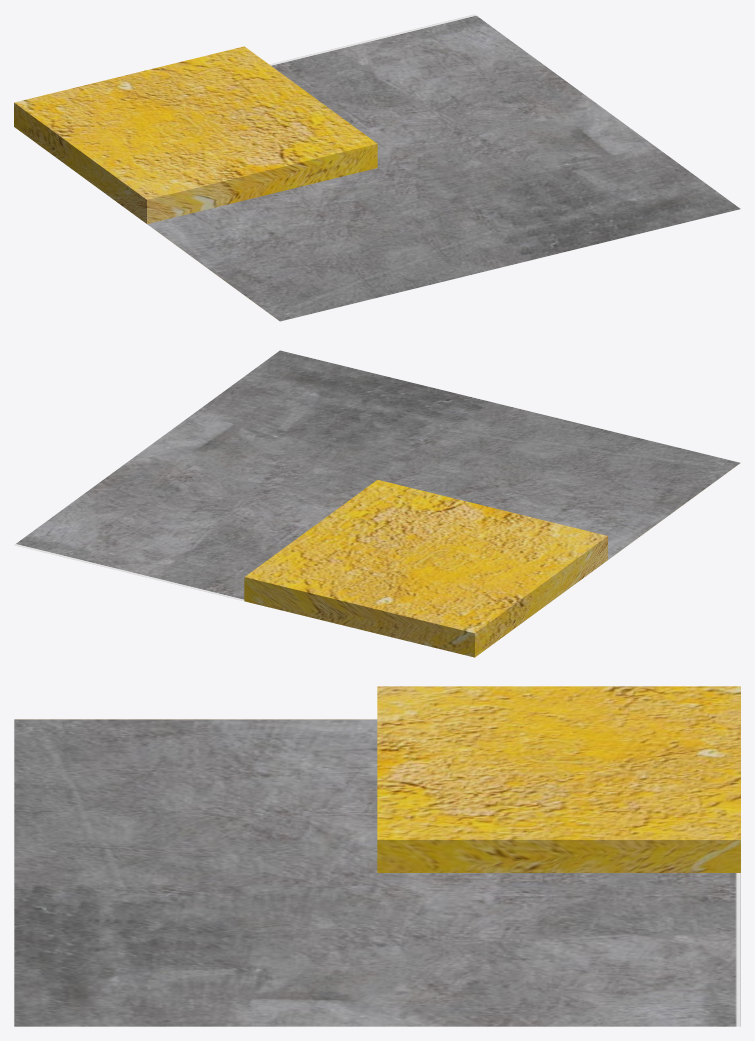
The model's file is Piso_025.fbx.
3 views of the same model, one above another, from view 1: azimuth 30°, elevation 25°; view 2: azimuth 150°, elevation 25°; view 3: azimuth 270°, elevation 25° (orthographic). The views are drawn at different scales.
Visible parts, largest first — view 1: Plane.012; view 2: Plane.012; view 3: Plane.012.
Part boxes in pixels (<box>): Plane.012: <box>14,14,740,321</box>; Plane.012: <box>14,350,740,657</box>; Plane.012: <box>14,686,740,1026</box>.
Size of the model in its own units: 600 by 30.18 by 600.
